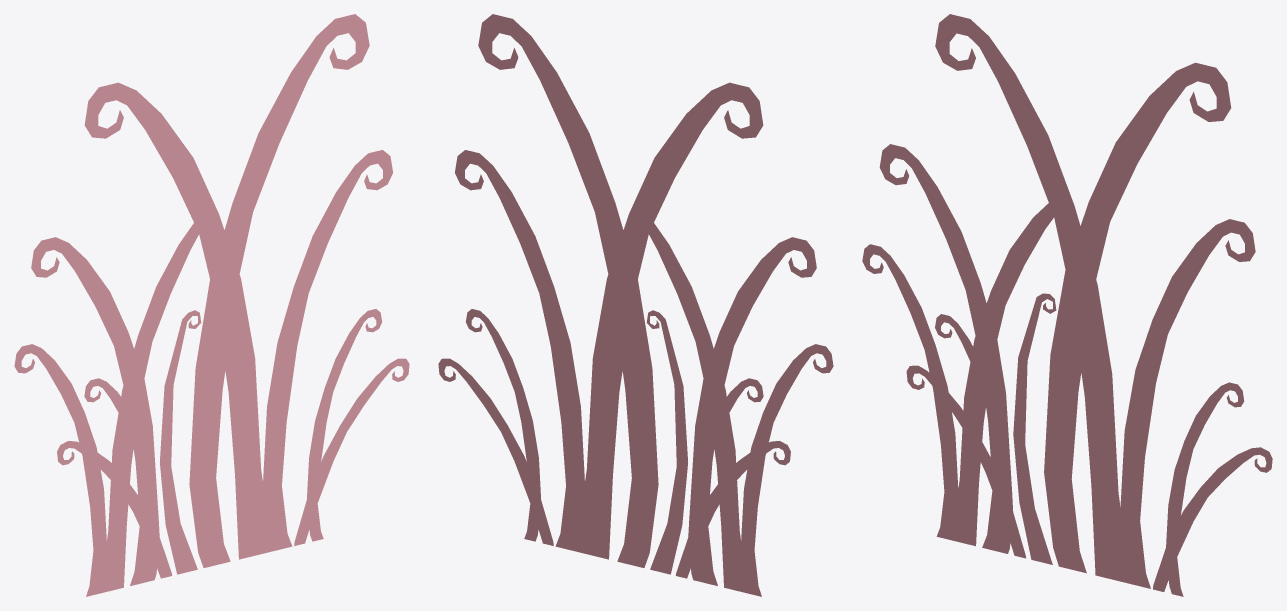
The model's file is Vegetation_Verdant_Grass_Flat_02.FBX.
The picture shows the model from 3 angles, left to right: view 1: azimuth 30°, elevation 25°; view 2: azimuth 150°, elevation 25°; view 3: azimuth 330°, elevation 25°; orthographic projection. The views are drawn at different scales.
Visible parts, largest first — view 1: Vegetation_Verdant_Grass_Flat_02; view 2: Vegetation_Verdant_Grass_Flat_02; view 3: Vegetation_Verdant_Grass_Flat_02.
Part boxes in pixels (x1=…): Vegetation_Verdant_Grass_Flat_02: x1=14, y1=14, x2=409, y2=596; Vegetation_Verdant_Grass_Flat_02: x1=438, y1=14, x2=833, y2=596; Vegetation_Verdant_Grass_Flat_02: x1=862, y1=14, x2=1272, y2=596.
Size of the model in its own units: 1209 by 1512 by 6.61e-05.
